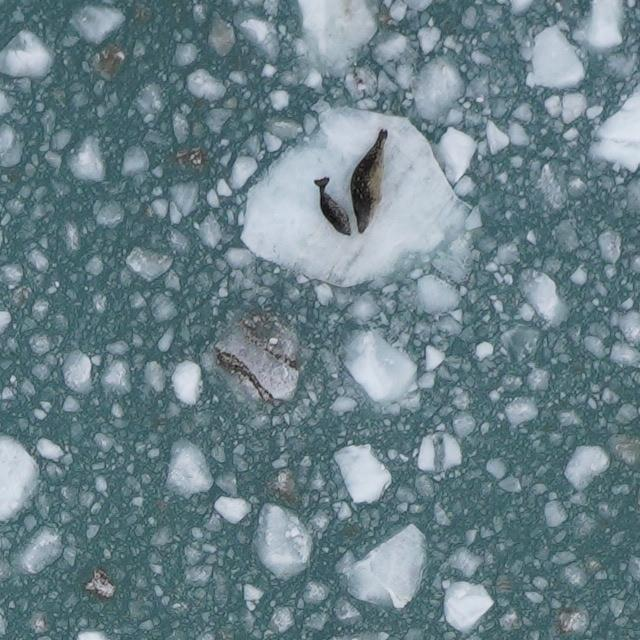seal: (346, 124, 391, 238), (310, 174, 355, 240)
